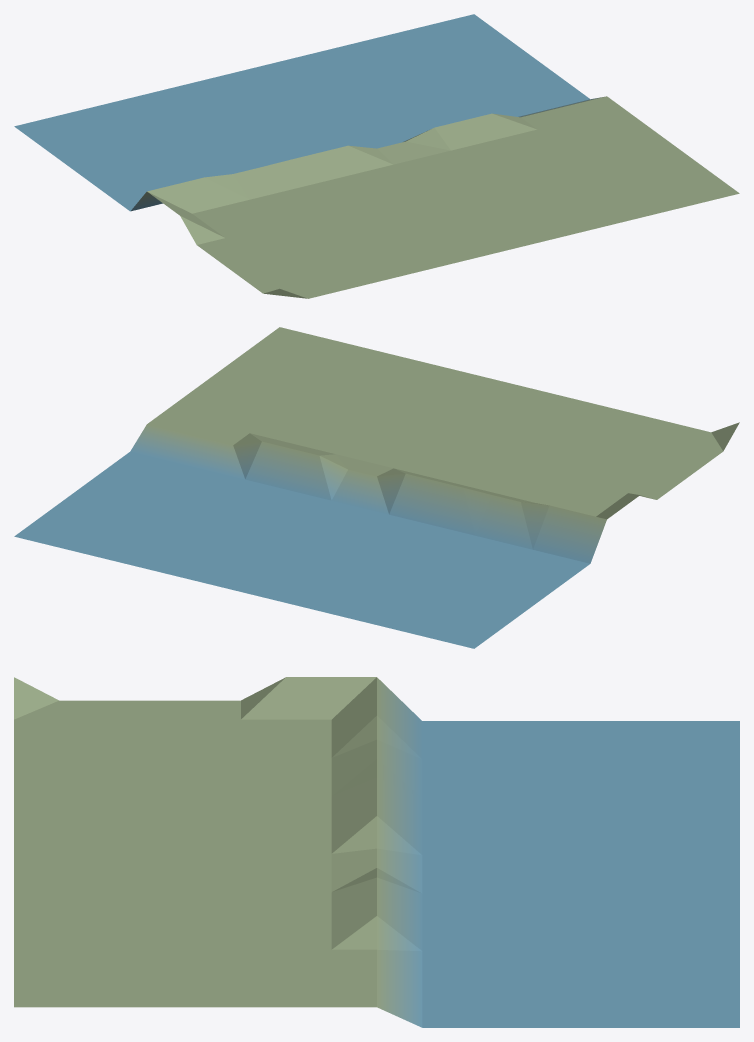
3 renders of one model, top to bottom at view 1: azimuth 30°, elevation 25°; view 2: azimuth 150°, elevation 25°; view 3: azimuth 270°, elevation 25°, orthographic. The views are drawn at different scales.
Size of the model in its own units: 32 by 2.14 by 32.
